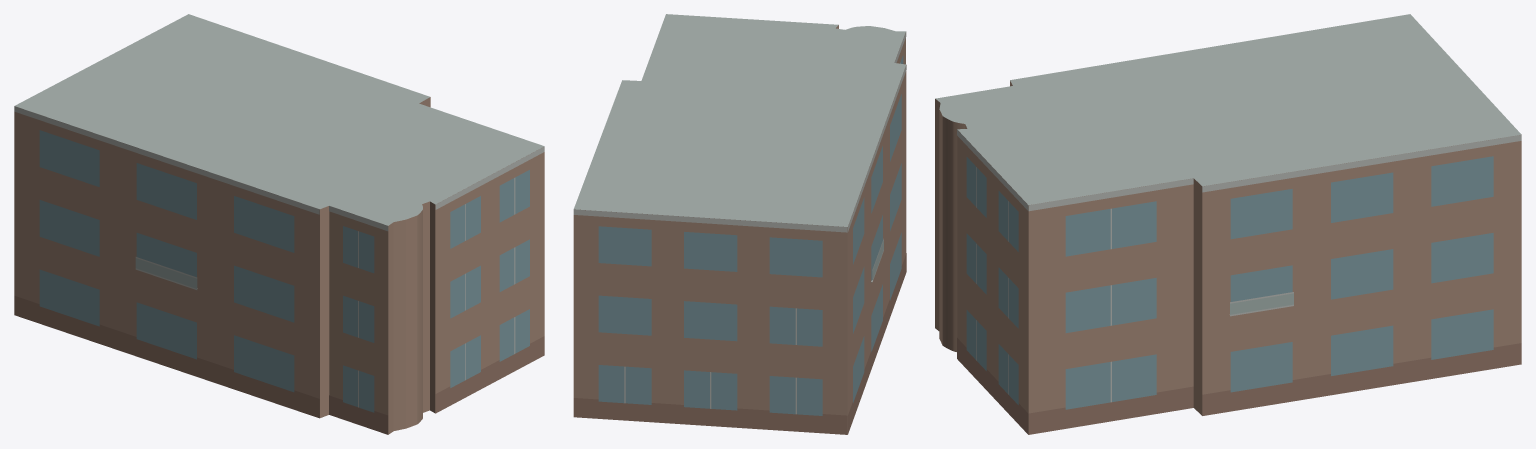
The model's file is survey-upis-32710144.glb.
3 renders of one model, left to right at view 1: azimuth 30°, elevation 25°; view 2: azimuth 150°, elevation 25°; view 3: azimuth 270°, elevation 25°, orthographic. The views are drawn at different scales.
Visible parts, largest first — view 1: survey-upis-32710144.tmp; view 2: survey-upis-32710144.tmp; view 3: survey-upis-32710144.tmp.
Part boxes in pixels (left/top/right/bottom): survey-upis-32710144.tmp: left=14, top=14, right=544, bottom=434; survey-upis-32710144.tmp: left=573, top=14, right=906, bottom=434; survey-upis-32710144.tmp: left=935, top=14, right=1521, bottom=434.
Bounding box in the file's own units: 16.35 × 9.15 × 21.19.
